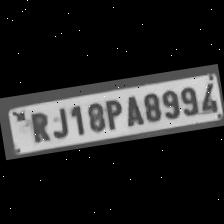1: (64, 99, 88, 138)
4: (194, 78, 218, 114)
8: (82, 98, 107, 134), (138, 89, 162, 125)
9: (175, 81, 199, 117), (157, 86, 182, 120)
A: (120, 92, 144, 128)
J: (46, 102, 71, 140)
P: (100, 95, 125, 131)
R: (22, 108, 52, 144)
